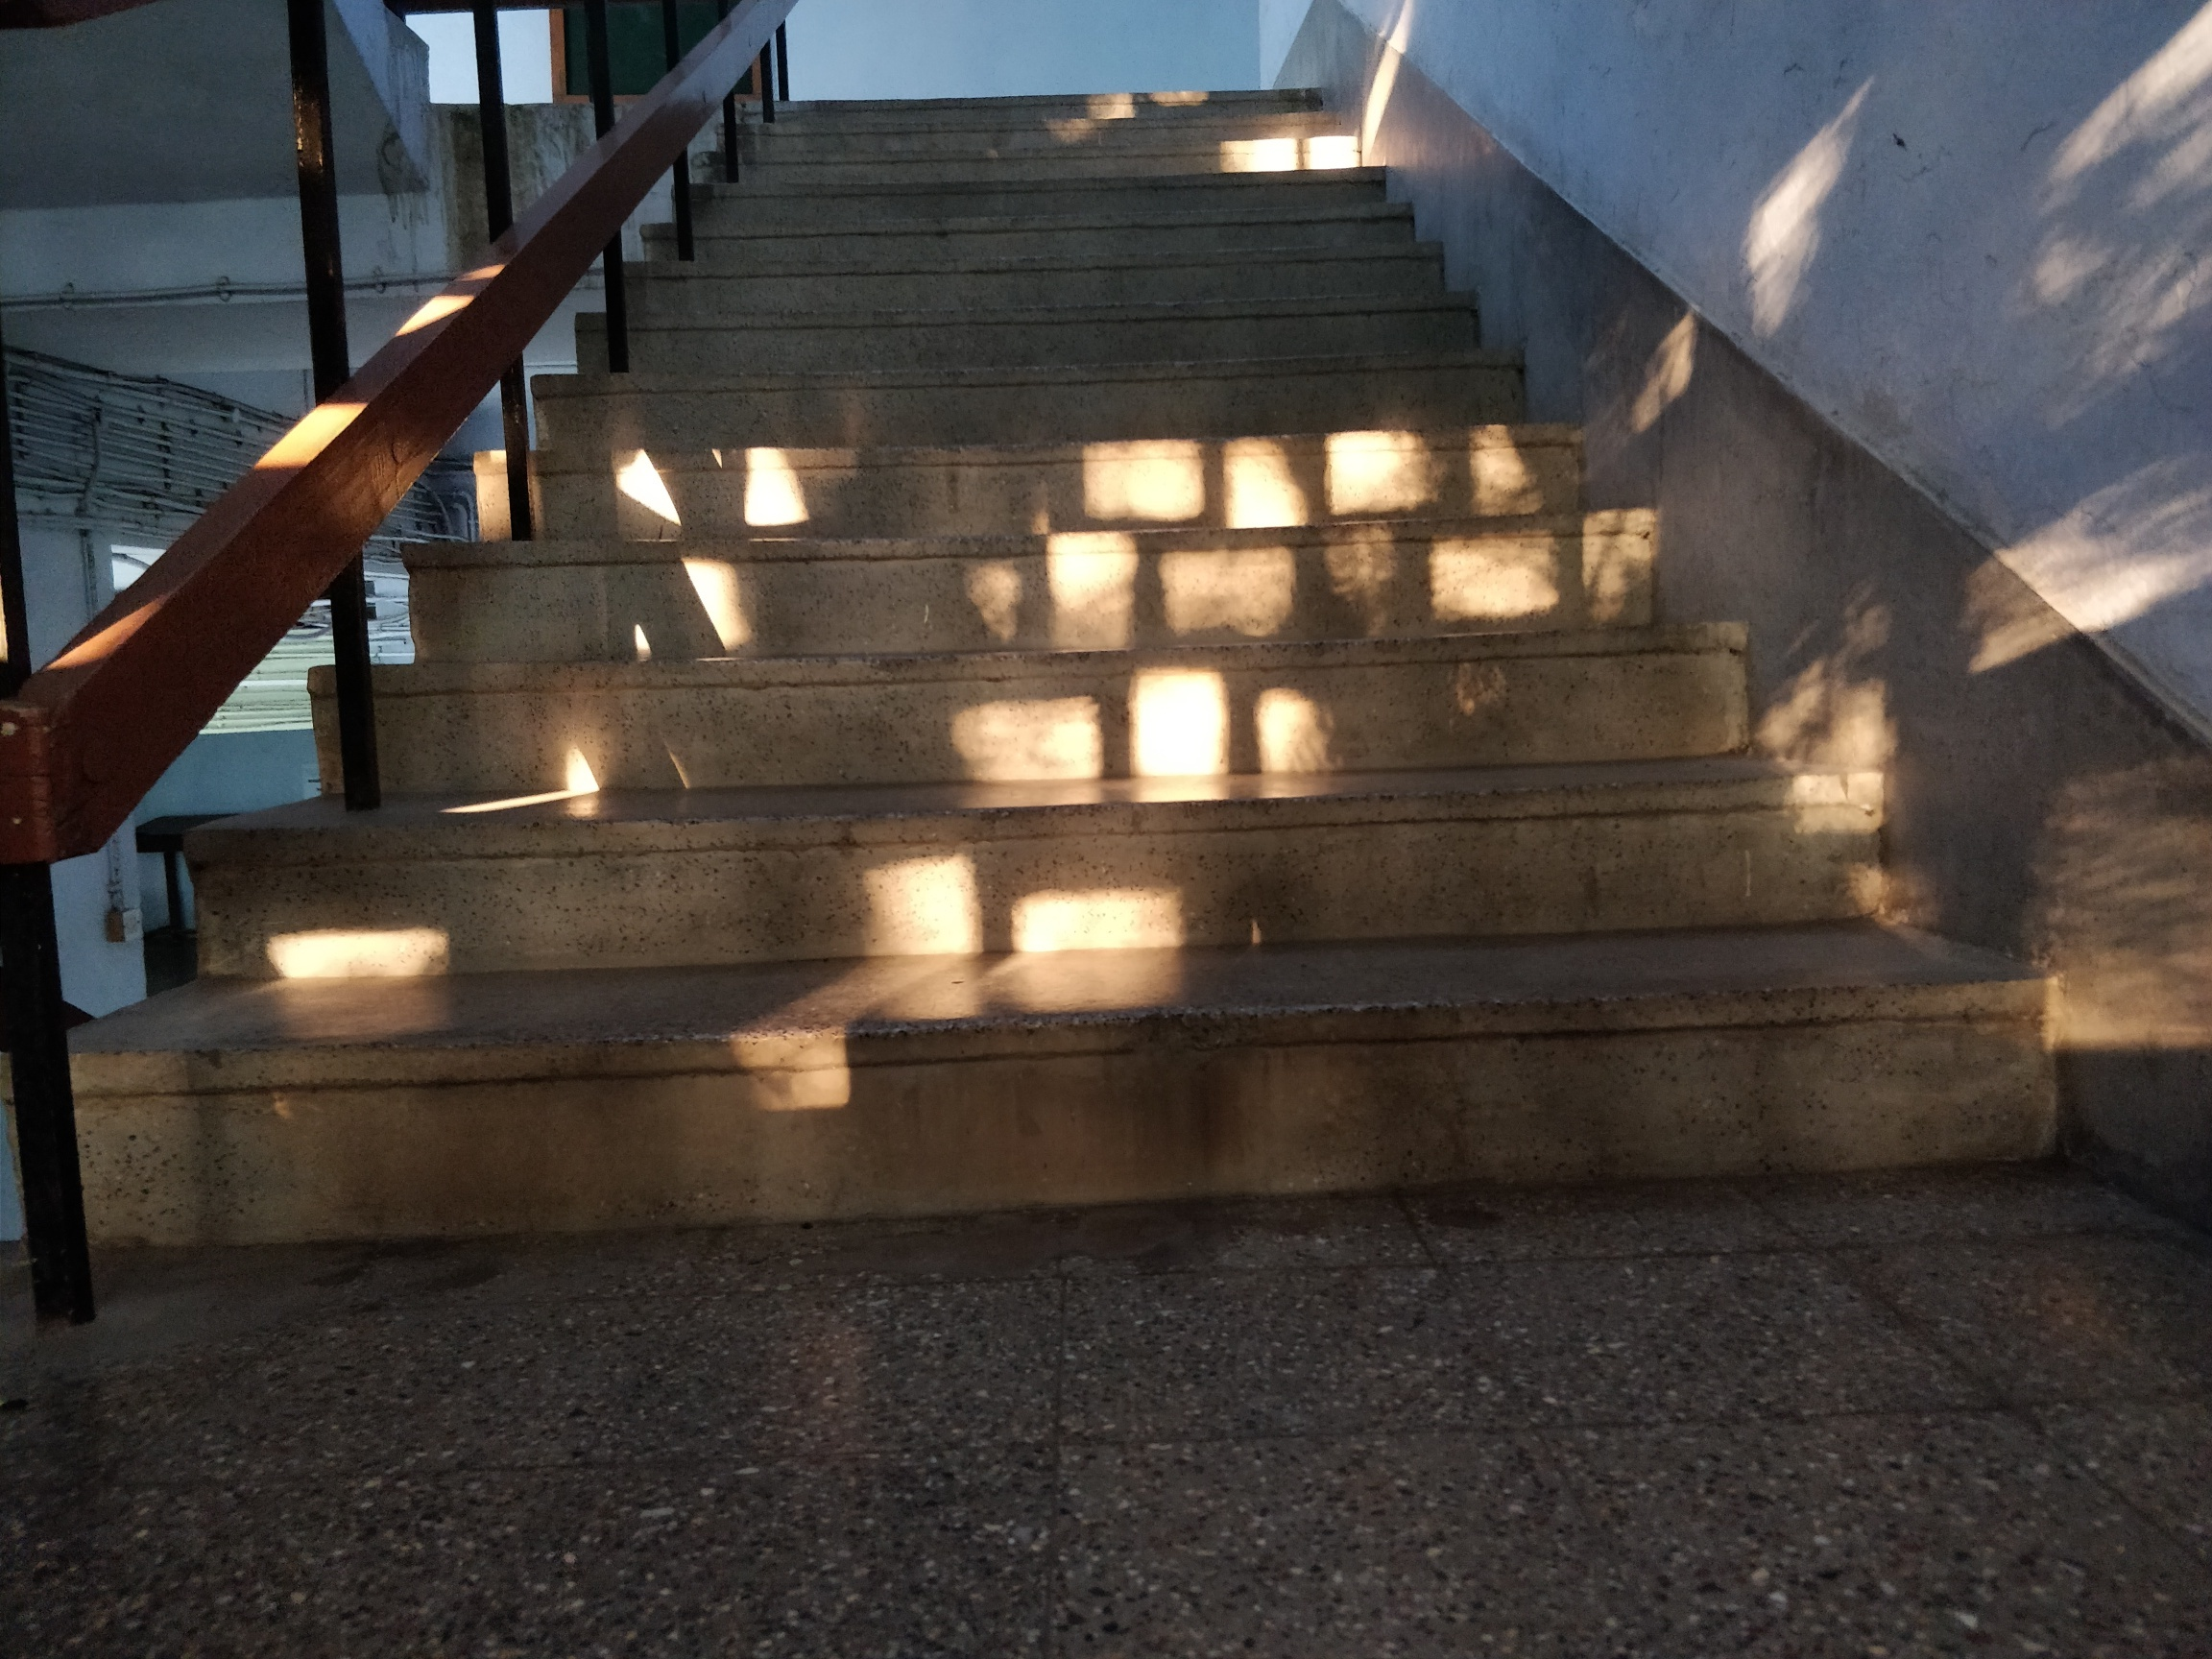stairs_up: (127, 98, 2041, 1215)
